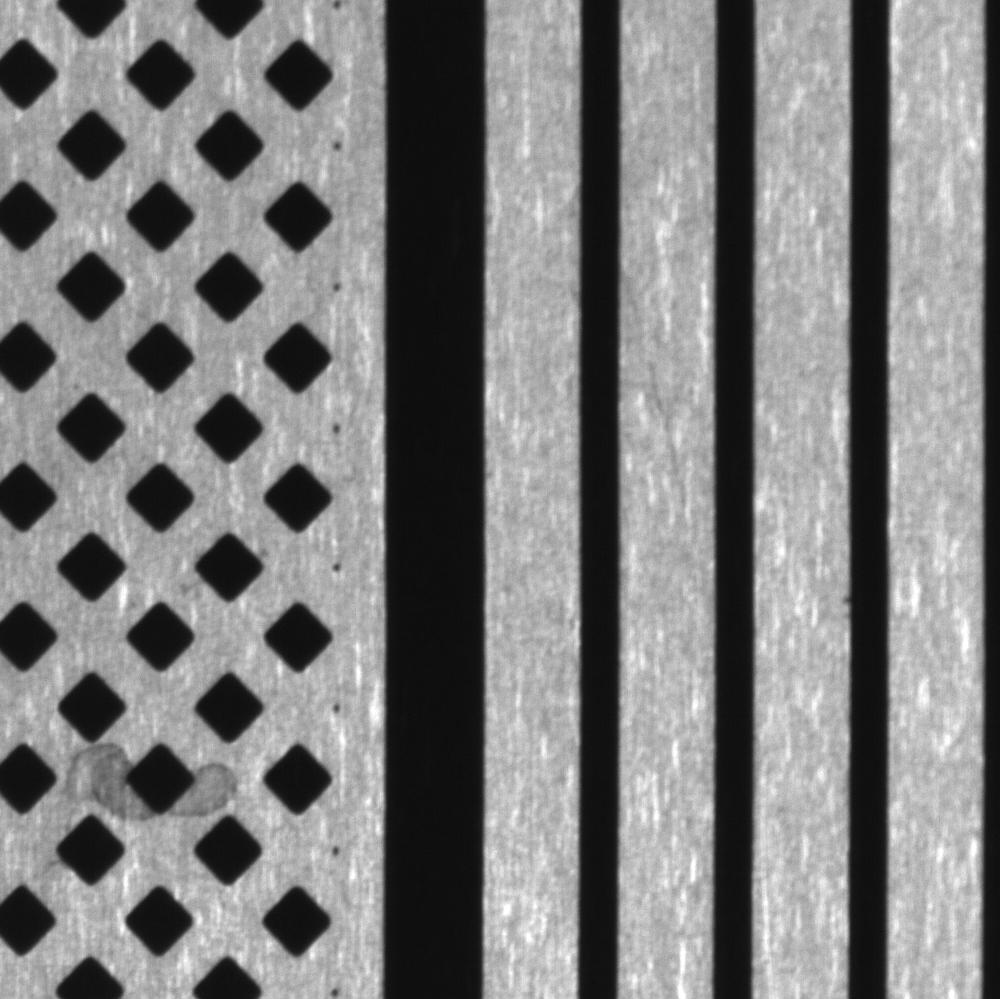Discolor: (42, 726, 249, 860)
Scar: (639, 339, 701, 526)
